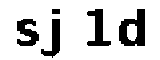1: (82, 9, 112, 50)
d: (116, 6, 147, 50)
j: (42, 5, 66, 60)
s: (13, 17, 41, 49)
